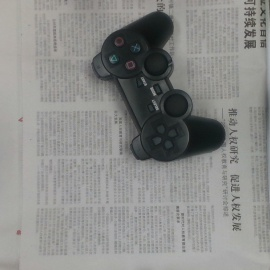bottle: (95, 12, 227, 163)
